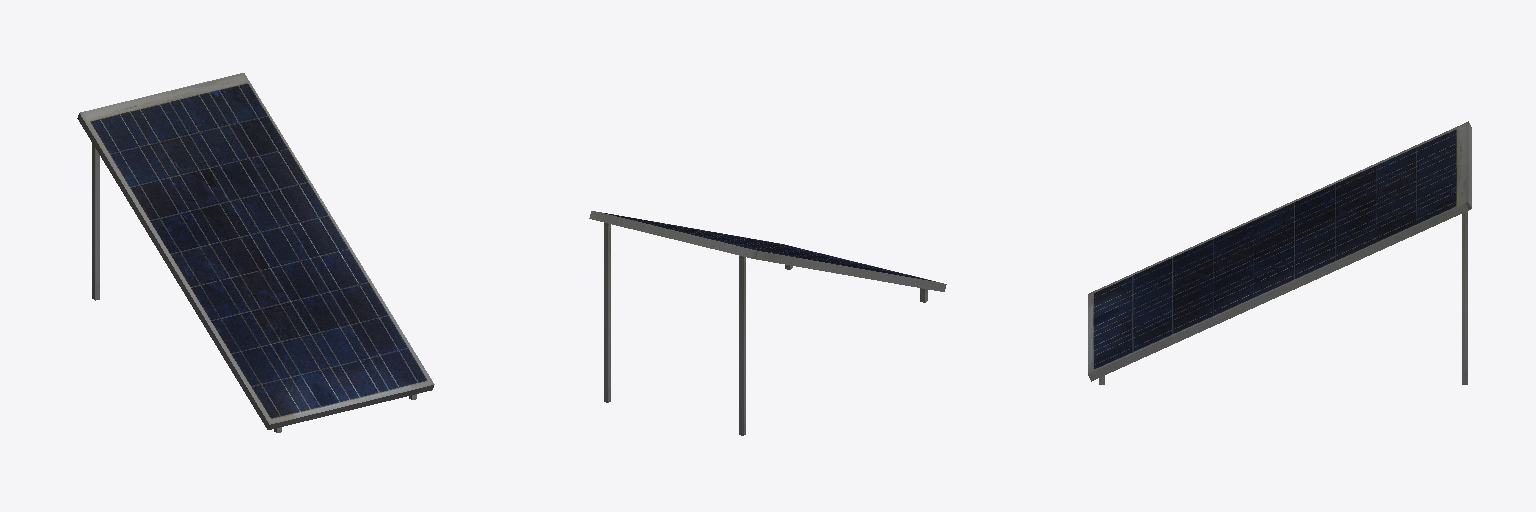
The picture shows the model from 3 angles: view 1: azimuth 30°, elevation 25°; view 2: azimuth 150°, elevation 25°; view 3: azimuth 270°, elevation 25°; orthographic projection.
Parts seen in each view (by area): view 1: solarPanel_1; view 2: solarPanel_1; view 3: solarPanel_1.
Boxes of the visible parts, box(x1,y1,x2,y2) form: solarPanel_1: box(77, 73, 434, 432); solarPanel_1: box(589, 211, 946, 435); solarPanel_1: box(1088, 121, 1471, 384).
Bounding box in the file's own units: 1 × 1.09 × 2.02.
Materials: 1 (1 with a texture image).